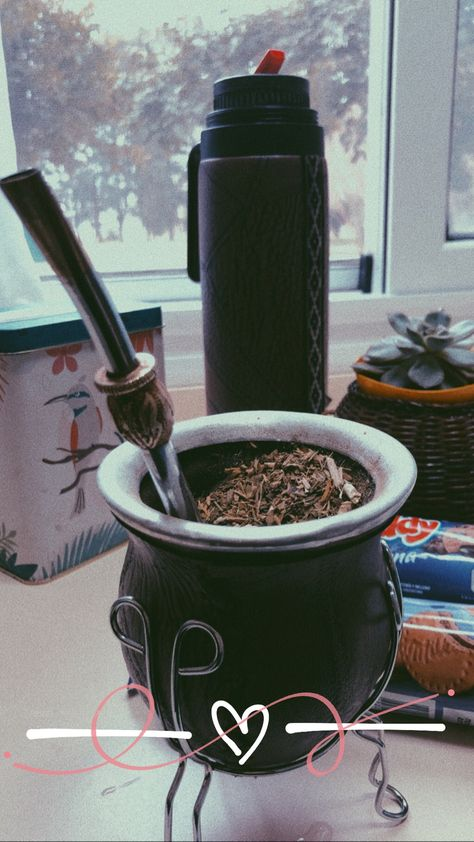mate: (96, 408, 418, 778)
